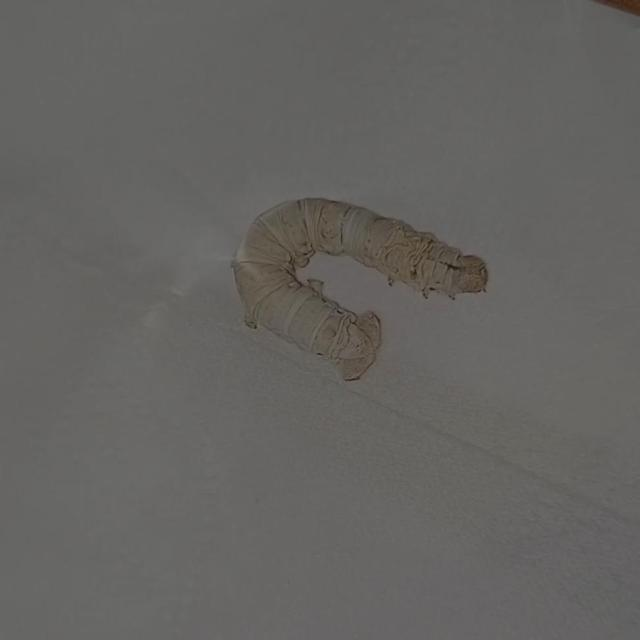Healthy: (223, 158, 502, 400)
